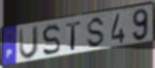4: (110, 12, 126, 44)
9: (131, 8, 150, 42)
S: (41, 23, 62, 58), (86, 16, 107, 50)
T: (65, 20, 82, 52)
U: (18, 25, 40, 61)
